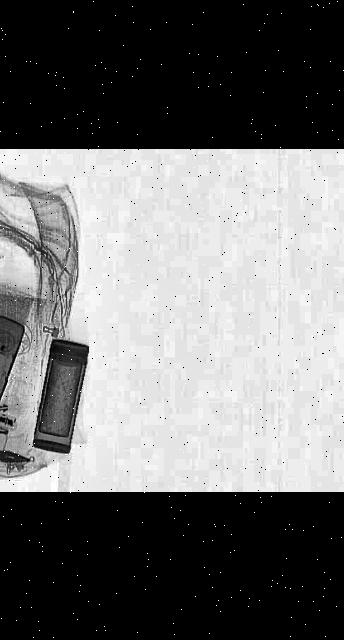Pliers: (0, 432, 37, 474)
